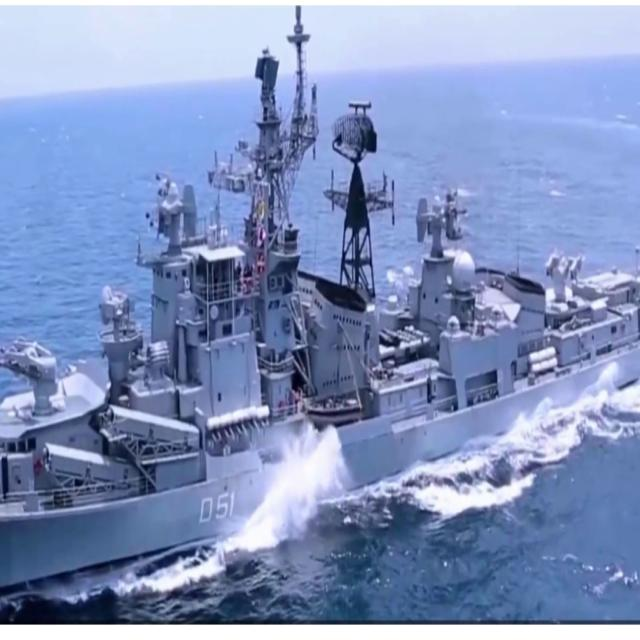OCR: (188, 481, 238, 532)
